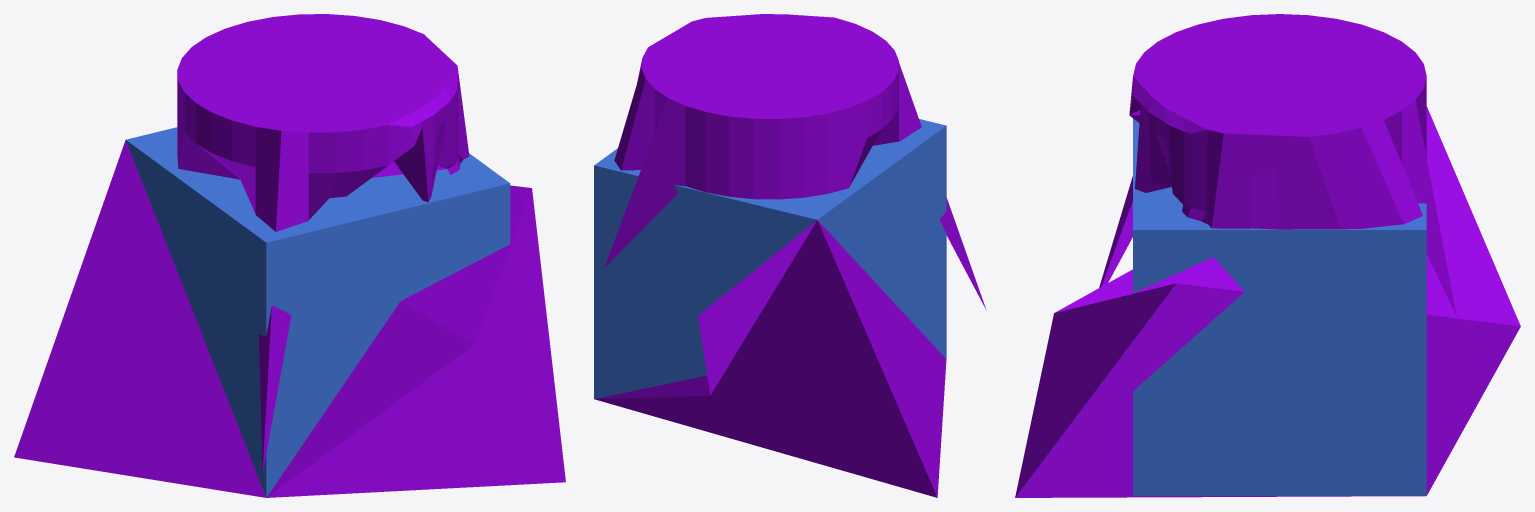
File: rumple.glb
3 renders of one model, left to right at view 1: azimuth 30°, elevation 25°; view 2: azimuth 150°, elevation 25°; view 3: azimuth 270°, elevation 25°, orthographic. The views are drawn at different scales.
Visible parts, largest first — view 1: Cube.001, Cube; view 2: Cube.001, Cube; view 3: Cube.001, Cube.
Part boxes in pixels (x1,y1,x2,y2): Cube.001: (14, 14, 565, 497); Cube: (126, 127, 510, 497); Cube.001: (595, 14, 986, 497); Cube: (594, 119, 946, 399); Cube.001: (1015, 14, 1520, 497); Cube: (1133, 118, 1426, 495).
Size of the model in its own units: 3.34 by 2.89 by 3.45.
